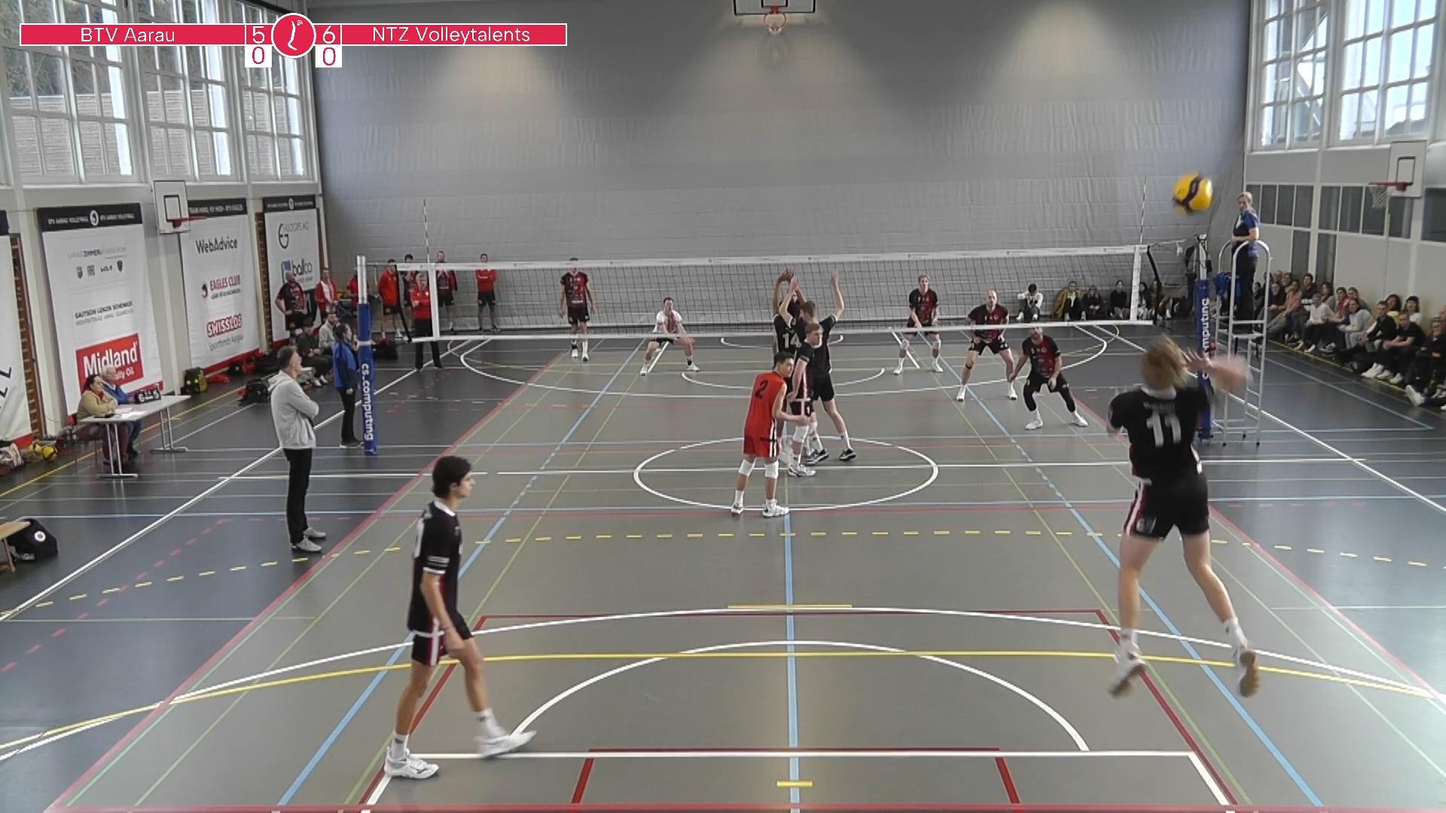Player: (384, 456, 533, 779), (731, 351, 802, 517), (808, 272, 856, 461), (1018, 327, 1088, 429), (956, 291, 1018, 401), (784, 323, 821, 476), (893, 275, 943, 374), (639, 297, 698, 376), (559, 266, 595, 361), (771, 269, 804, 352)
Serve: (1081, 341, 1269, 701)
ball: (1169, 168, 1216, 216)
